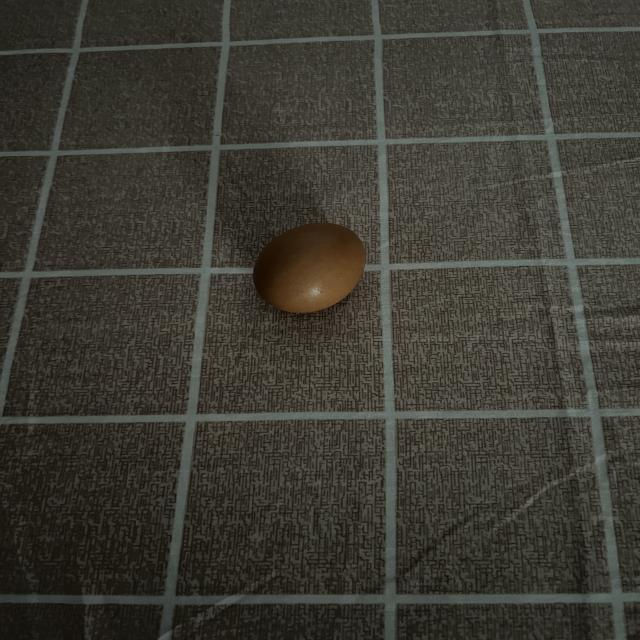egg: (246, 220, 370, 318)
